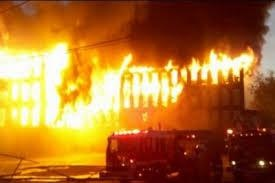fire: (26, 40, 270, 126)
